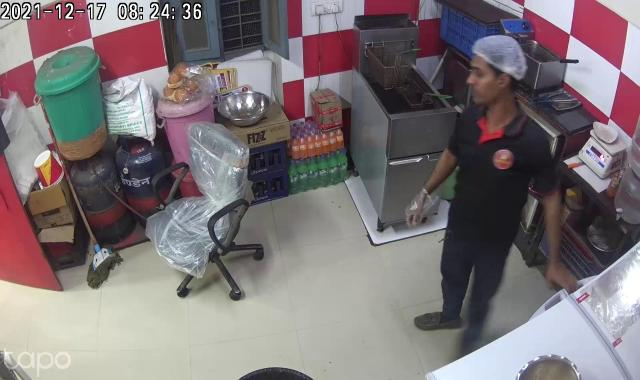hairnet: (472, 36, 528, 80)
